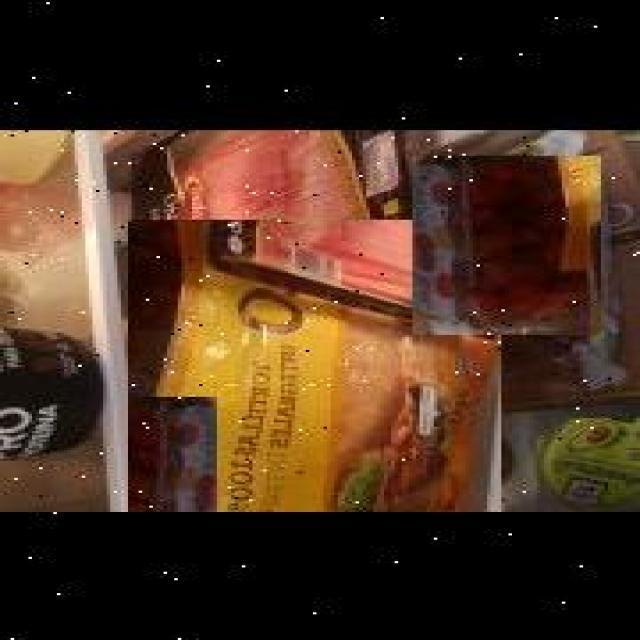guacamole: (537, 416, 640, 512)
tomato: (412, 154, 601, 332)
tortillas: (128, 217, 502, 510)
